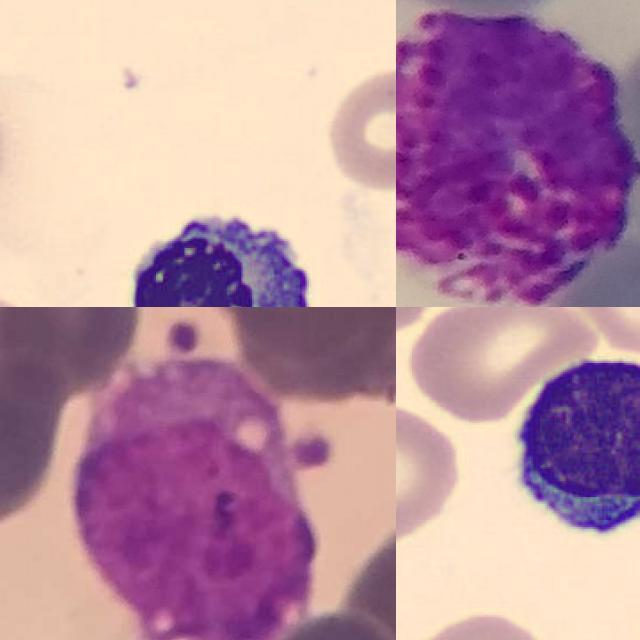Basophil: (396, 6, 640, 307)
Lymphocyte: (68, 357, 316, 640), (495, 343, 640, 551), (113, 198, 324, 307)
RBC: (401, 307, 598, 423), (396, 398, 467, 548), (321, 63, 396, 195), (397, 606, 561, 640), (563, 307, 640, 356)
